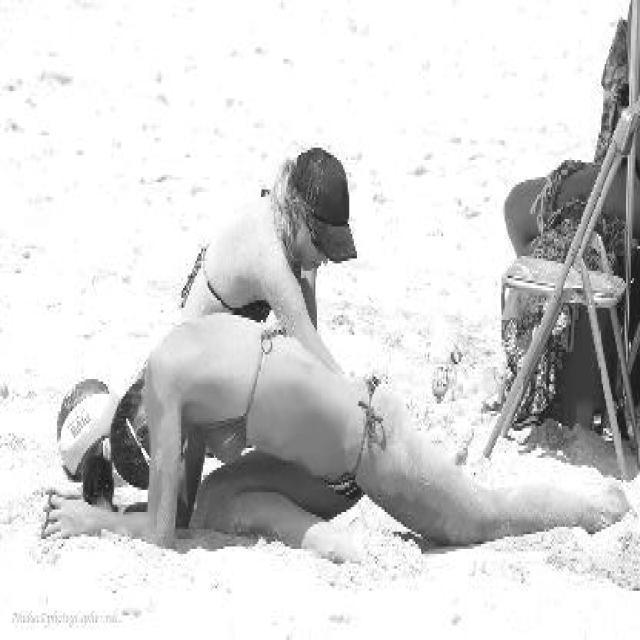volleyball: (56, 380, 120, 481)
